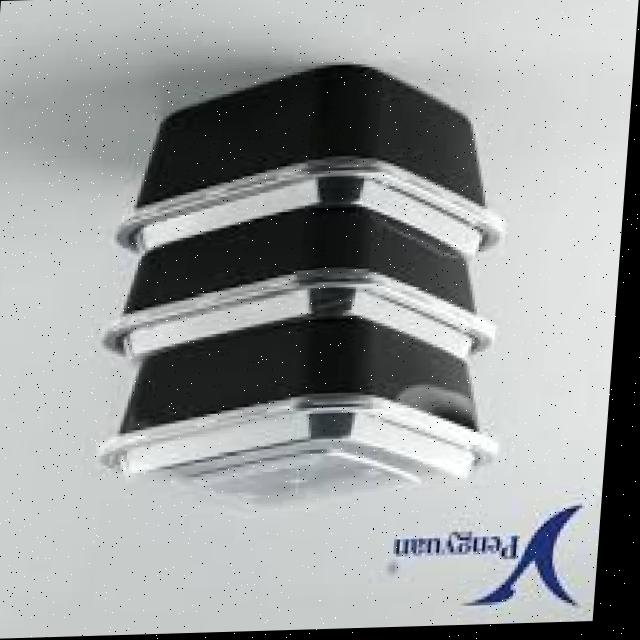disposable: (100, 50, 515, 287), (88, 302, 519, 530), (84, 201, 493, 394)
